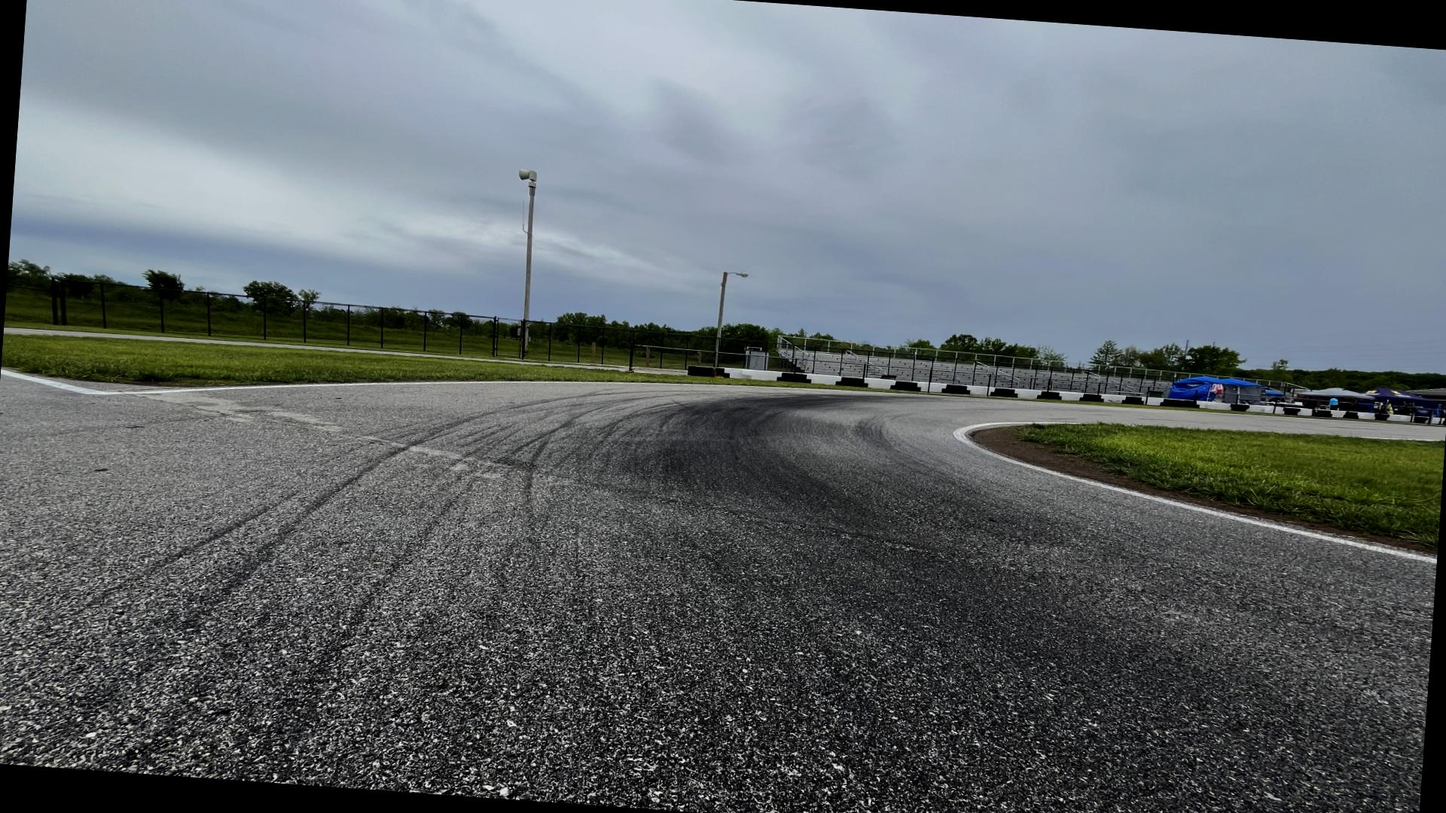white-line: (950, 422, 1436, 565), (1, 370, 870, 397)
